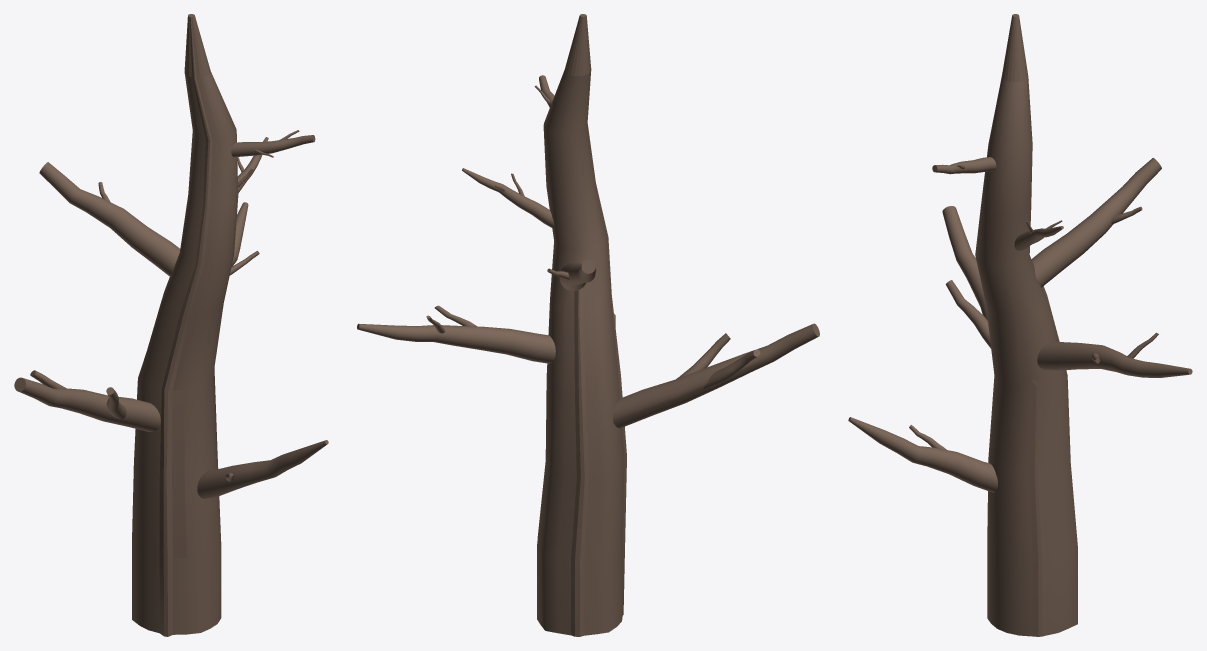
Rendered from TreeModel.fbx.
3 views of the same model, side by side, from view 1: azimuth 30°, elevation 25°; view 2: azimuth 150°, elevation 25°; view 3: azimuth 270°, elevation 25° (orthographic).
Parts seen in each view (by area): view 1: polySurface3; view 2: polySurface3; view 3: polySurface3.
Part boxes in pixels (left/top/right/bottom): polySurface3: left=14, top=14, right=328, bottom=636; polySurface3: left=357, top=14, right=819, bottom=636; polySurface3: left=848, top=14, right=1192, bottom=636.
Bounding box in the file's own units: 5.56 × 9.2 × 4.72.
